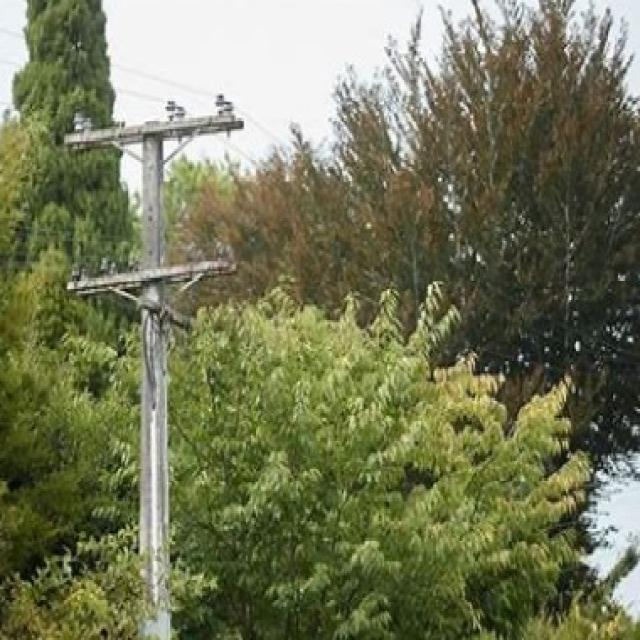utility poles: (52, 44, 250, 640)
